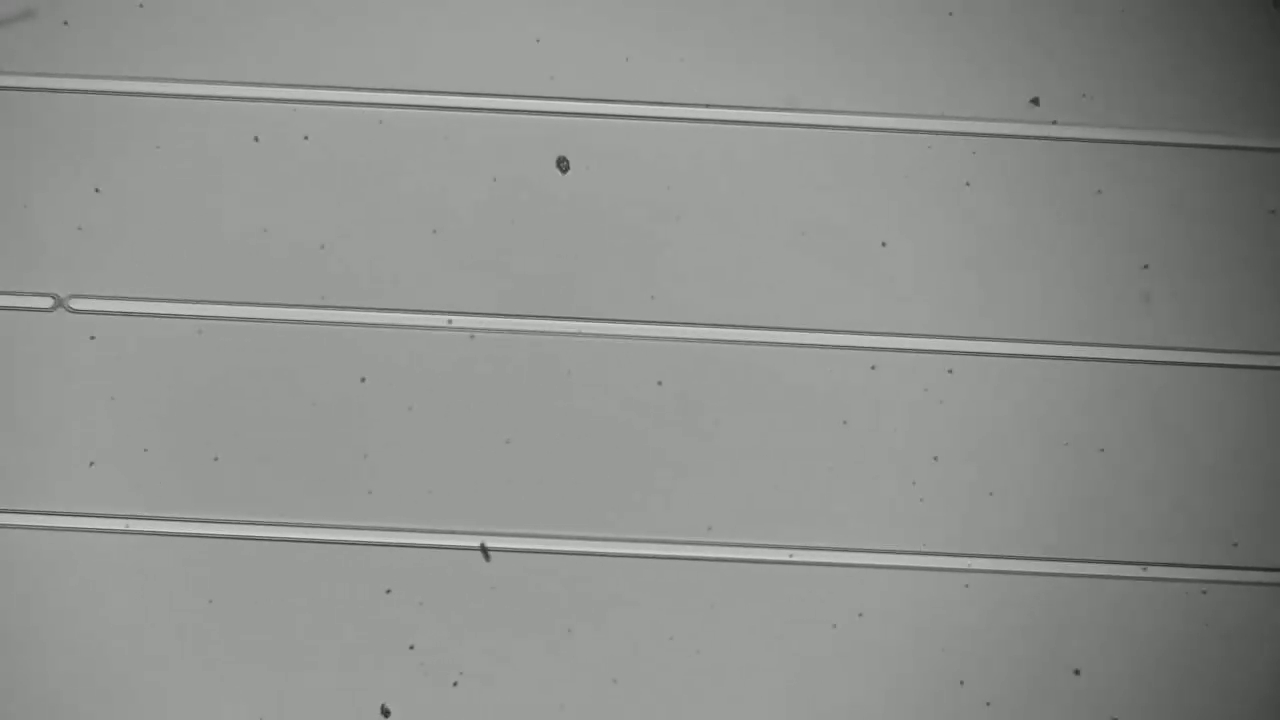open: (37, 280, 86, 325)
stains_enbedded: (465, 525, 508, 574)
